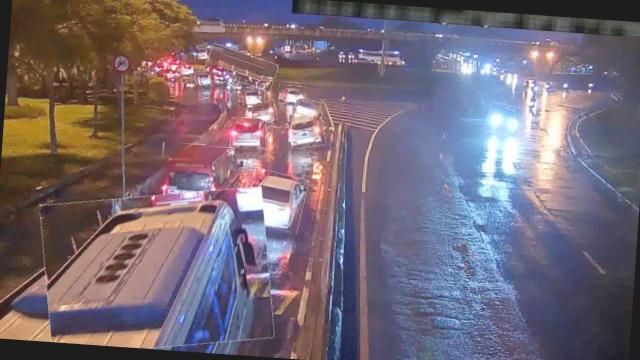Bus: (35, 180, 278, 356), (158, 142, 248, 214)
Car: (244, 169, 306, 231), (286, 110, 325, 148), (485, 102, 522, 136), (228, 117, 266, 149), (246, 100, 277, 124), (277, 84, 305, 105), (294, 96, 320, 118), (240, 87, 264, 107), (195, 70, 215, 86)
Truck: (204, 47, 277, 88)
